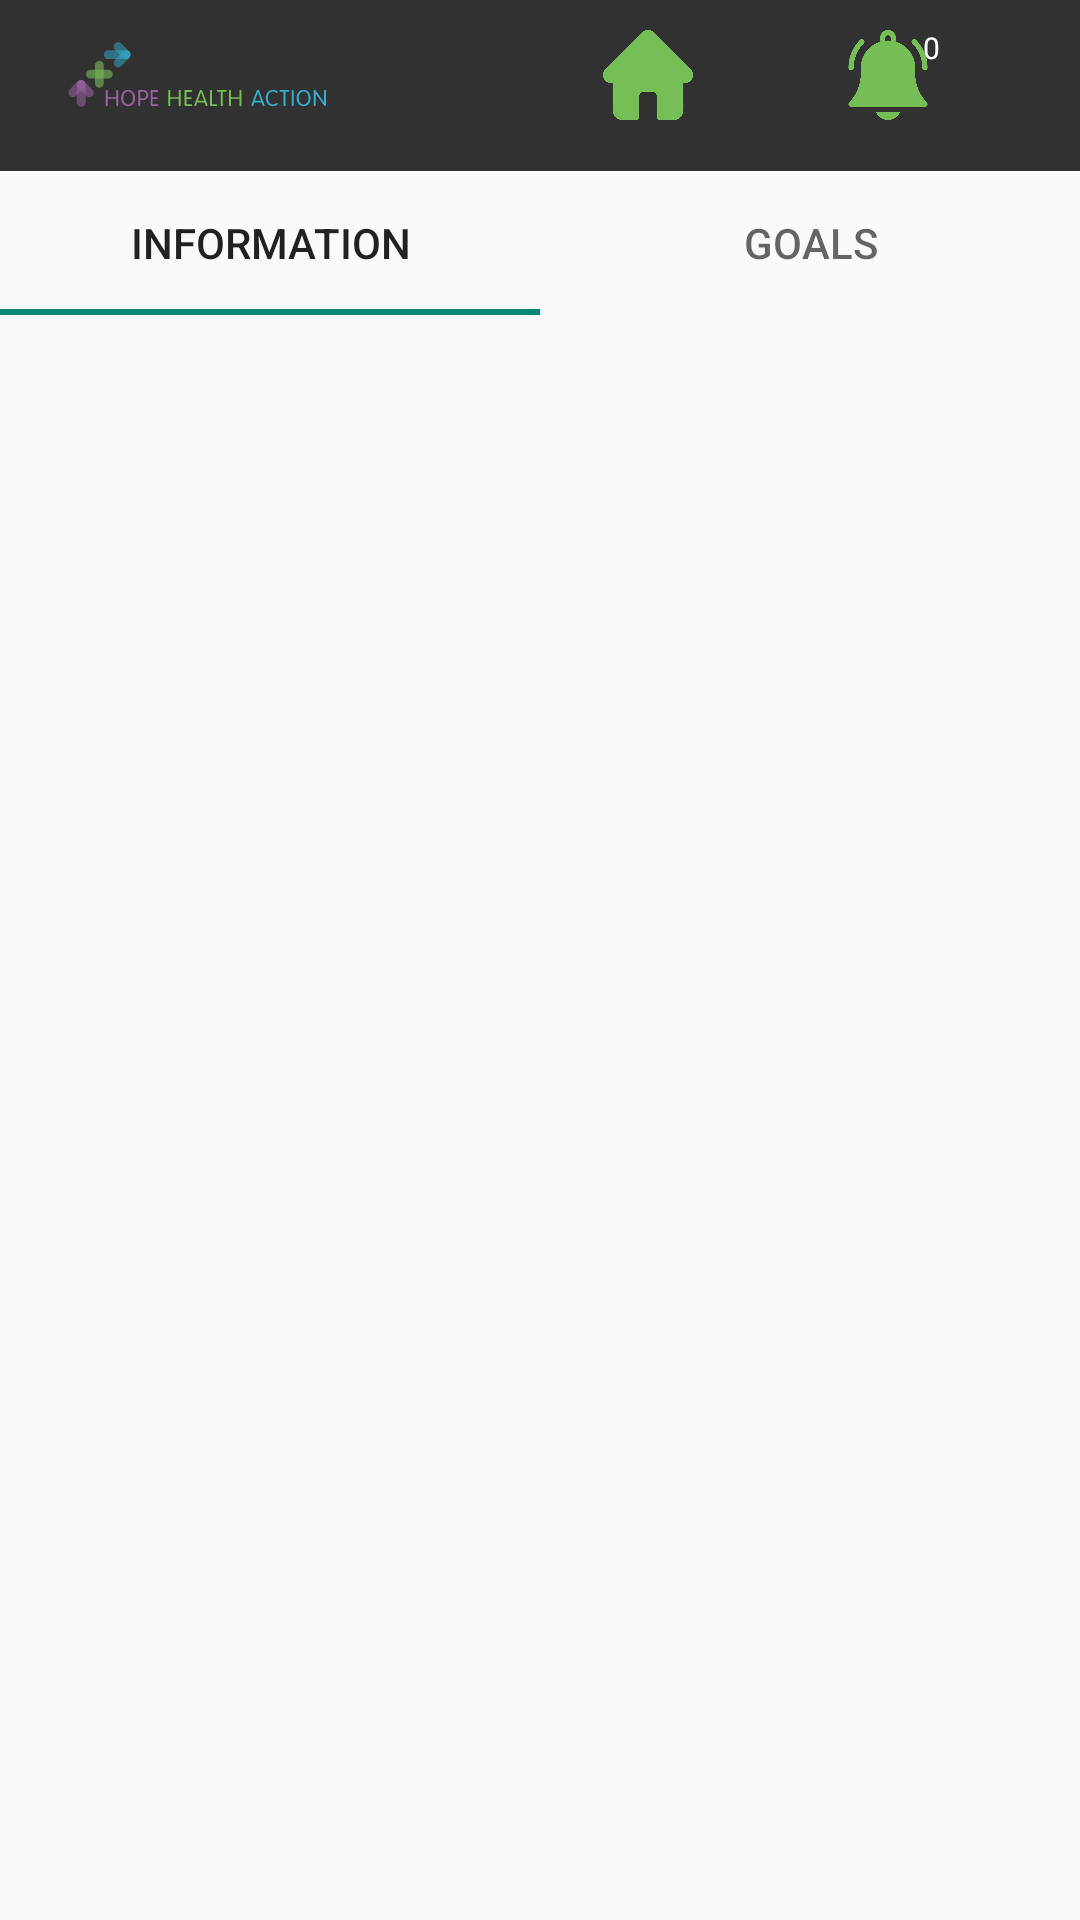

Named icons in this screenshot (1080px x 1920px) and their bounding boxes, bbox=[x1, y1, x2, y2]:
bell: bbox=[848, 30, 939, 120]
home: bbox=[603, 30, 693, 120]
